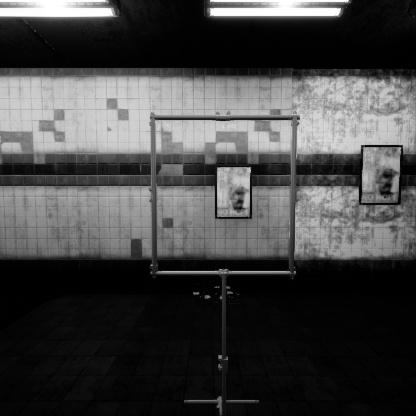gate: (151, 137, 313, 302)
